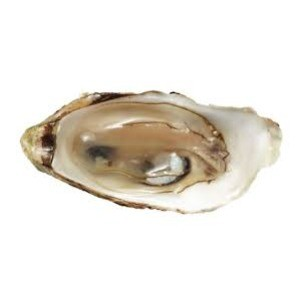oyster_brain food: (20, 94, 272, 214)
